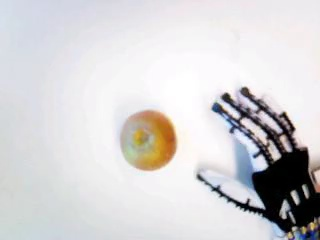apple: (117, 108, 176, 169)
hand: (197, 87, 319, 240)
